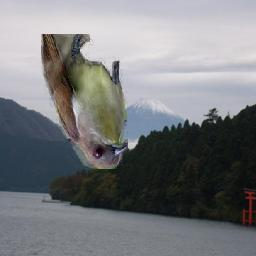Cuckoo: (42, 35, 129, 170)
